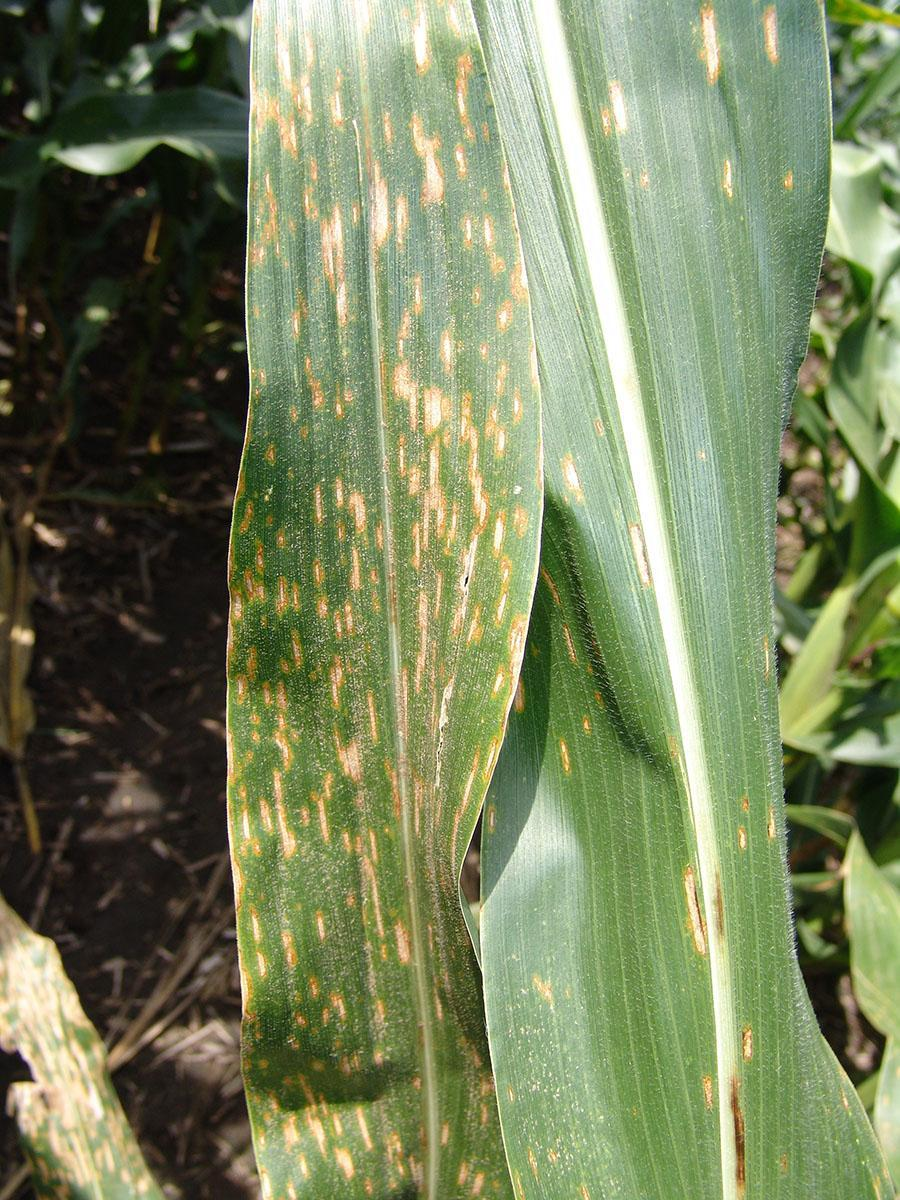Corn_Blight: (206, 8, 560, 1198), (668, 818, 771, 1200), (696, 0, 823, 282), (596, 467, 670, 634), (596, 36, 661, 218)
